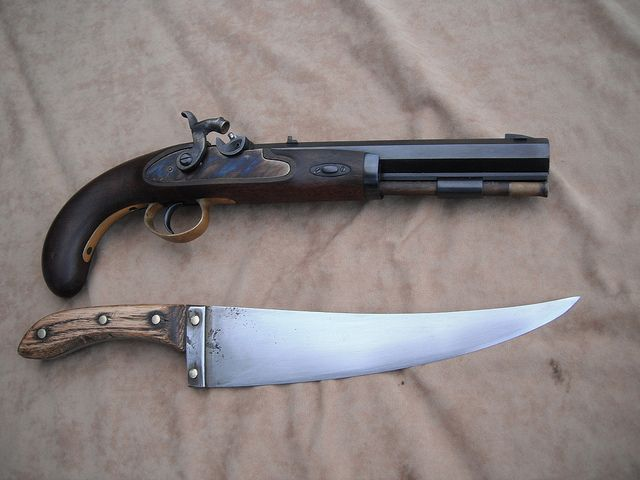gun: (37, 107, 562, 299)
knife: (12, 292, 587, 393)
